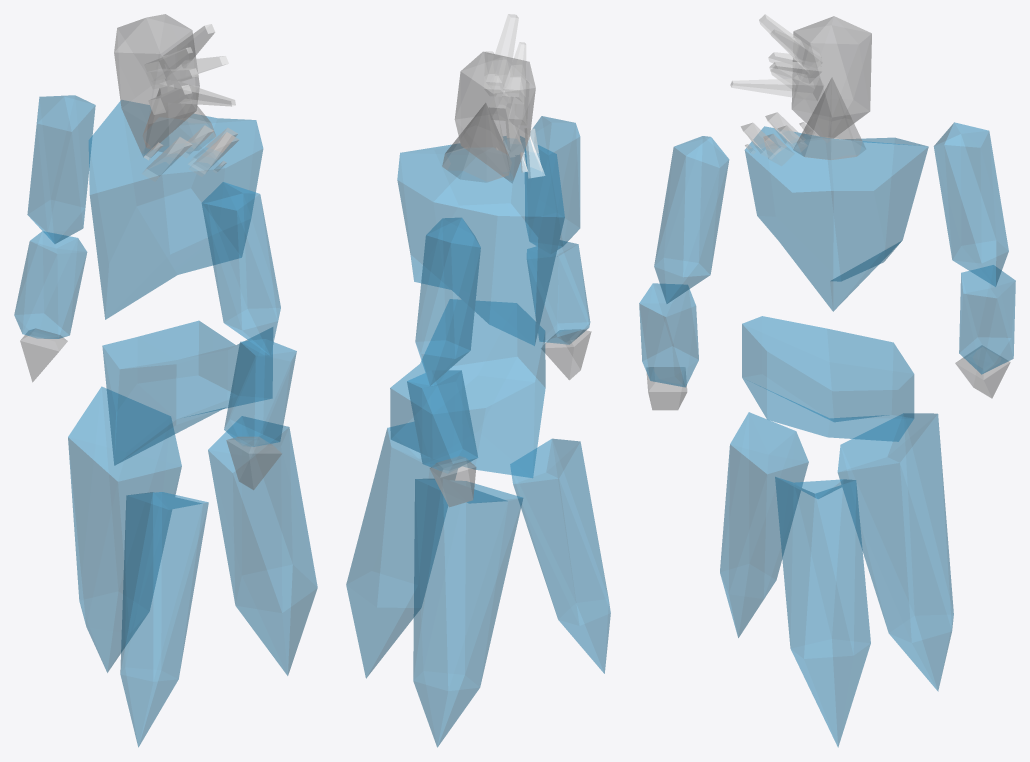
File: ghostIdle23.obj
3 renders of one model, left to right at view 1: azimuth 30°, elevation 25°; view 2: azimuth 150°, elevation 25°; view 3: azimuth 270°, elevation 25°, orthographic. The views are drawn at different scales.
Visible parts, largest first — view 1: Cube.001_Cube.001, Icosphere.005, Icosphere.004, Cube_Cube.002, Icosphere.003, Icosphere.005_Icosphere.001, Icosphere.003_Icosphere.001, Icosphere.007_Icosphere.001, Icosphere.008_Icosphere.001, Icosphere.006_Icosphere.001, Cone_Cone.002, Cube.002_Cube.001 (+10 smaller); view 2: Cube.001_Cube.001, Cube_Cube.002, Icosphere.005, Icosphere.004, Icosphere.003, Icosphere.007_Icosphere.001, Icosphere.003_Icosphere.001, Icosphere.005_Icosphere.001, Icosphere.008_Icosphere.001, Icosphere.006_Icosphere.001, Cone_Cone.002, Cube.003_Cube.001 (+5 smaller); view 3: Cube.001_Cube.001, Icosphere.005, Icosphere.004, Cube_Cube.002, Icosphere.003, Icosphere.005_Icosphere.001, Icosphere.007_Icosphere.001, Icosphere.003_Icosphere.001, Icosphere.006_Icosphere.001, Icosphere.008_Icosphere.001, Cone_Cone.002, Cube.003_Cube.001 (+4 smaller).
Part boxes in pixels (left/top/right/bottom): Cube.001_Cube.001: left=88, top=100, right=263, bottom=319; Icosphere.005: left=68, top=386, right=181, bottom=672; Icosphere.004: left=208, top=416, right=317, bottom=675; Cube_Cube.002: left=102, top=320, right=272, bottom=465; Icosphere.003: left=120, top=492, right=208, bottom=747; Icosphere.005_Icosphere.001: left=201, top=182, right=280, bottom=355; Icosphere.003_Icosphere.001: left=114, top=14, right=199, bottom=157; Icosphere.007_Icosphere.001: left=27, top=95, right=95, bottom=243; Icosphere.008_Icosphere.001: left=14, top=231, right=87, bottom=338; Icosphere.006_Icosphere.001: left=224, top=339, right=296, bottom=446; Cone_Cone.002: left=143, top=88, right=215, bottom=151; Cube.002_Cube.001: left=226, top=437, right=281, bottom=489; Cube.001_Cube.001: left=397, top=136, right=564, bottom=345; Cube_Cube.002: left=390, top=299, right=545, bottom=478; Icosphere.005: left=413, top=478, right=523, bottom=747; Icosphere.004: left=346, top=422, right=457, bottom=678; Icosphere.003: left=510, top=438, right=610, bottom=673; Icosphere.007_Icosphere.001: left=415, top=217, right=480, bottom=385; Icosphere.003_Icosphere.001: left=454, top=51, right=535, bottom=183; Icosphere.005_Icosphere.001: left=525, top=116, right=580, bottom=253; Icosphere.008_Icosphere.001: left=407, top=370, right=477, bottom=473; Icosphere.006_Icosphere.001: left=527, top=240, right=590, bottom=344; Cone_Cone.002: left=442, top=103, right=509, bottom=182; Cube.003_Cube.001: left=430, top=456, right=476, bottom=507; Cube.001_Cube.001: left=744, top=126, right=928, bottom=311; Icosphere.005: left=837, top=413, right=953, bottom=691; Icosphere.004: left=775, top=477, right=870, bottom=747; Cube_Cube.002: left=742, top=316, right=914, bottom=441; Icosphere.003: left=720, top=412, right=808, bottom=637; Icosphere.005_Icosphere.001: left=654, top=136, right=729, bottom=303; Icosphere.007_Icosphere.001: left=934, top=122, right=1008, bottom=286; Icosphere.003_Icosphere.001: left=791, top=16, right=871, bottom=138; Icosphere.006_Icosphere.001: left=639, top=283, right=698, bottom=387; Icosphere.008_Icosphere.001: left=959, top=265, right=1015, bottom=374; Cone_Cone.002: left=793, top=77, right=865, bottom=159; Cube.003_Cube.001: left=955, top=345, right=1010, bottom=398.
Bounding box in the file's own units: 16.56 × 49.64 × 24.89.
